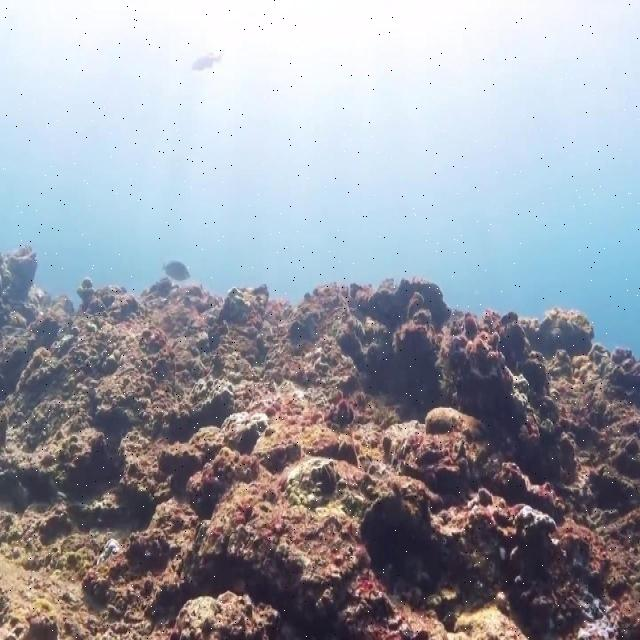fish: (194, 52, 224, 69), (164, 261, 192, 279)
sea-floor: (0, 243, 639, 639)
